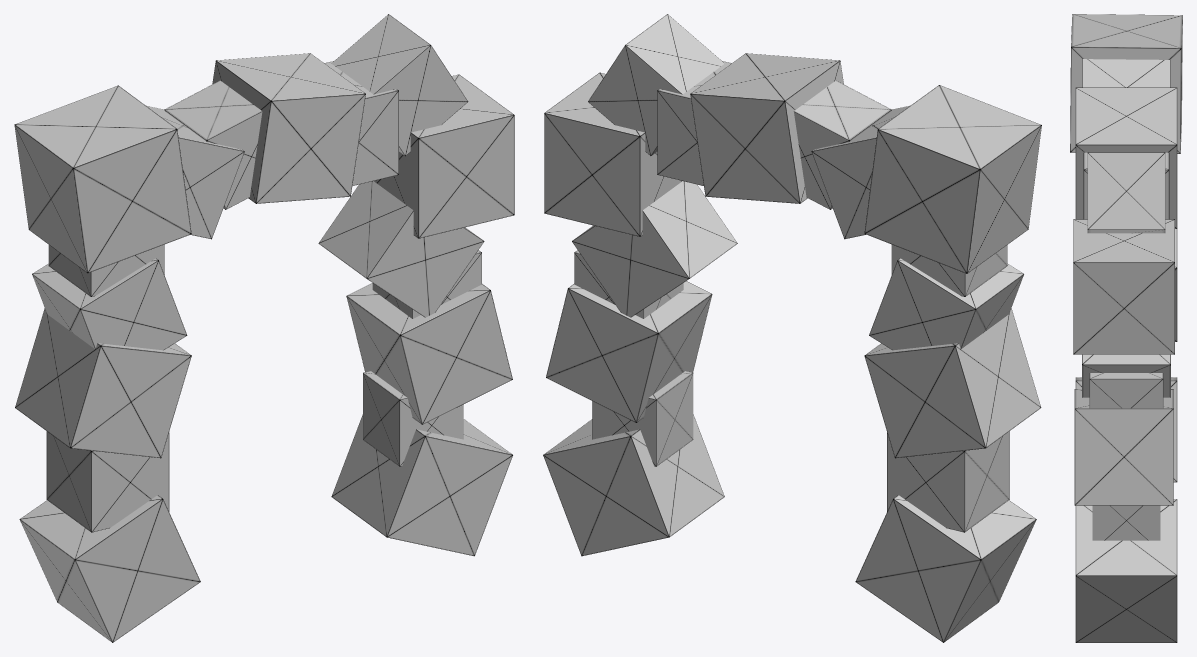
File: gate.obj
The picture shows the model from 3 angles, left to right: view 1: azimuth 30°, elevation 25°; view 2: azimuth 150°, elevation 25°; view 3: azimuth 270°, elevation 25°; orthographic projection. The views are drawn at different scales.
Parts seen in each view (by area): view 1: Cube; view 2: Cube; view 3: Cube.
Part boxes in pixels (x1=…): Cube: x1=14, y1=14, x2=514, y2=642; Cube: x1=543, y1=14, x2=1041, y2=642; Cube: x1=1070, y1=14, x2=1182, y2=642.
Bounding box in the file's own units: 9.23 × 10.27 × 2.22.
1 material, 1 textured.
